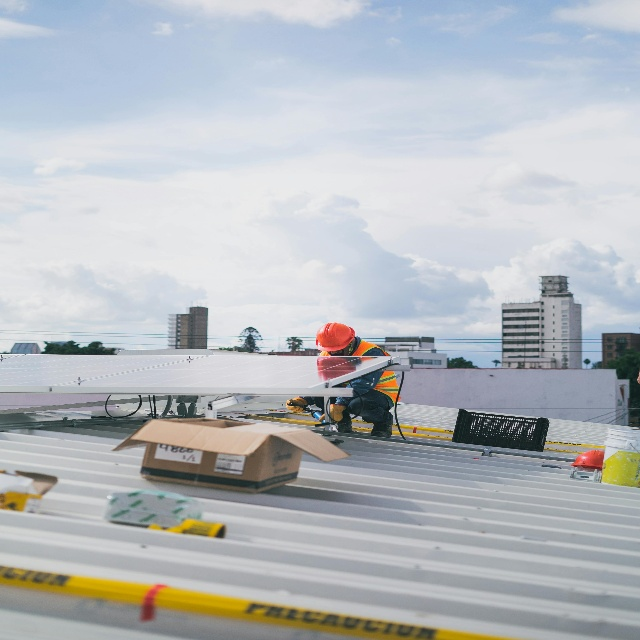Guantes: (319, 402, 346, 423), (285, 396, 308, 413)
